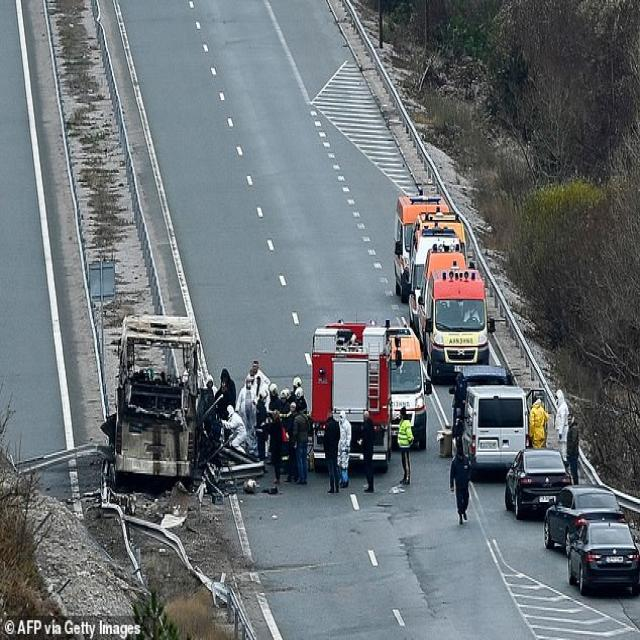Accident: (102, 309, 313, 502)
